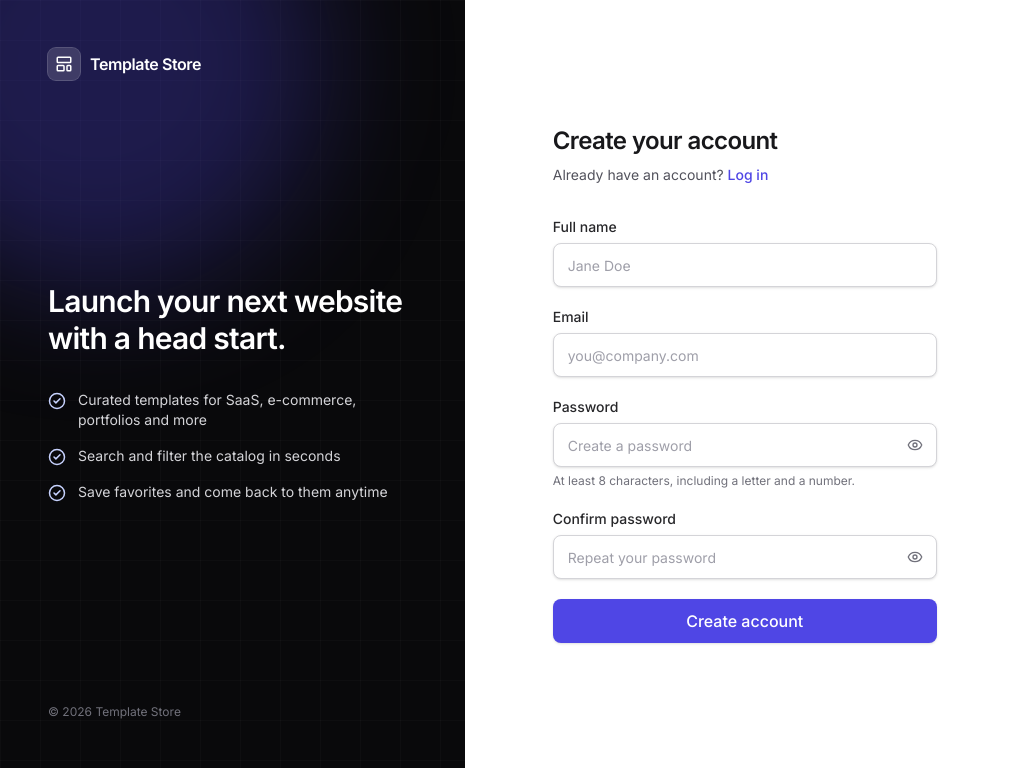
Scenario: Register page › requires matching passwords
The width and height of the screenshot is (1024, 768).
Type "Ada Lovelace" into the field labelled "Full name" at point(745, 265), box top-left (553, 243), bottom-right (937, 287)
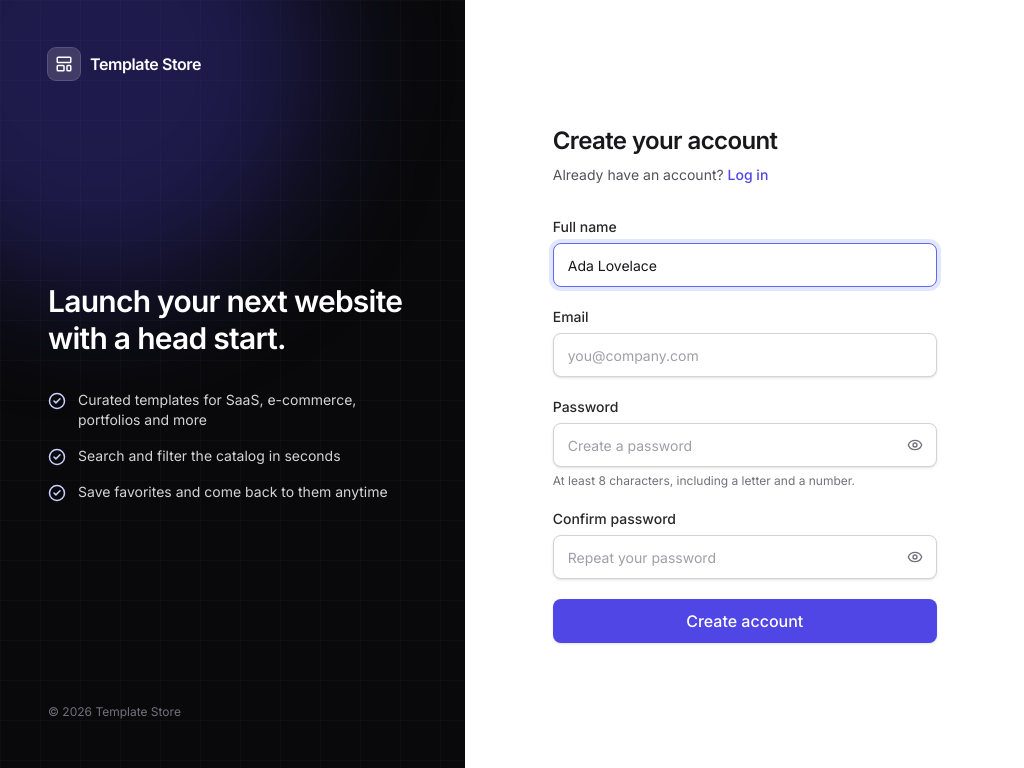
Type "ada@example.com" into the field labelled "Email" at point(745, 355), box top-left (553, 333), bottom-right (937, 377)
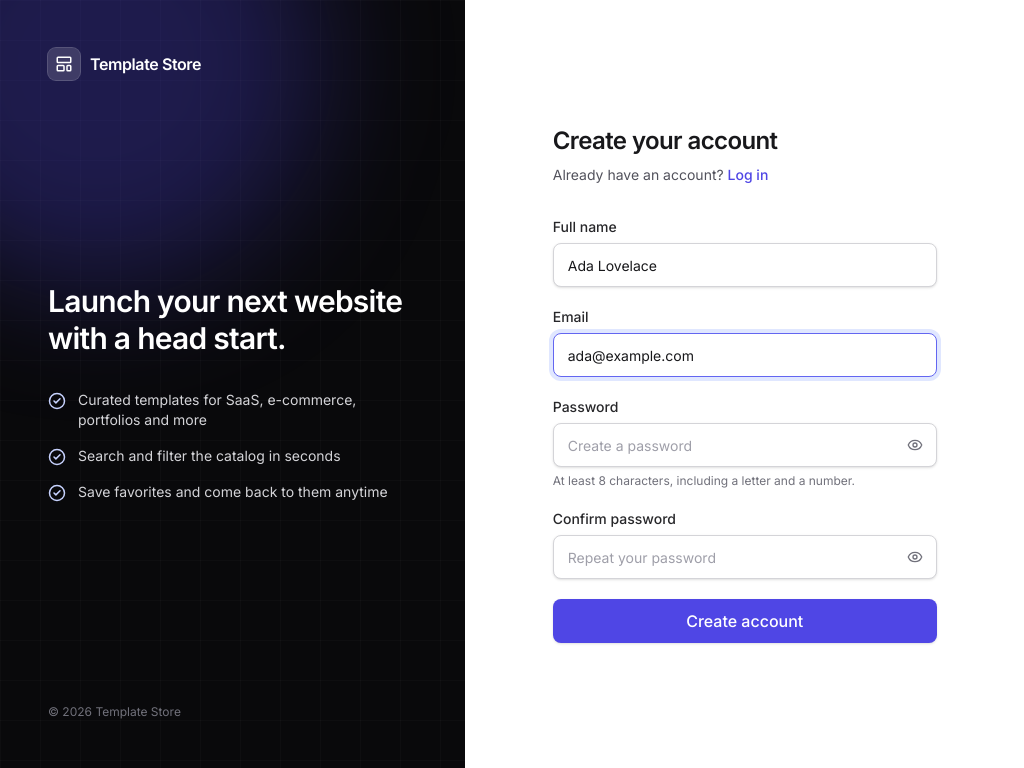
Type "Password1" into the password field labelled "Password" at point(745, 445), box top-left (553, 423), bottom-right (937, 467)
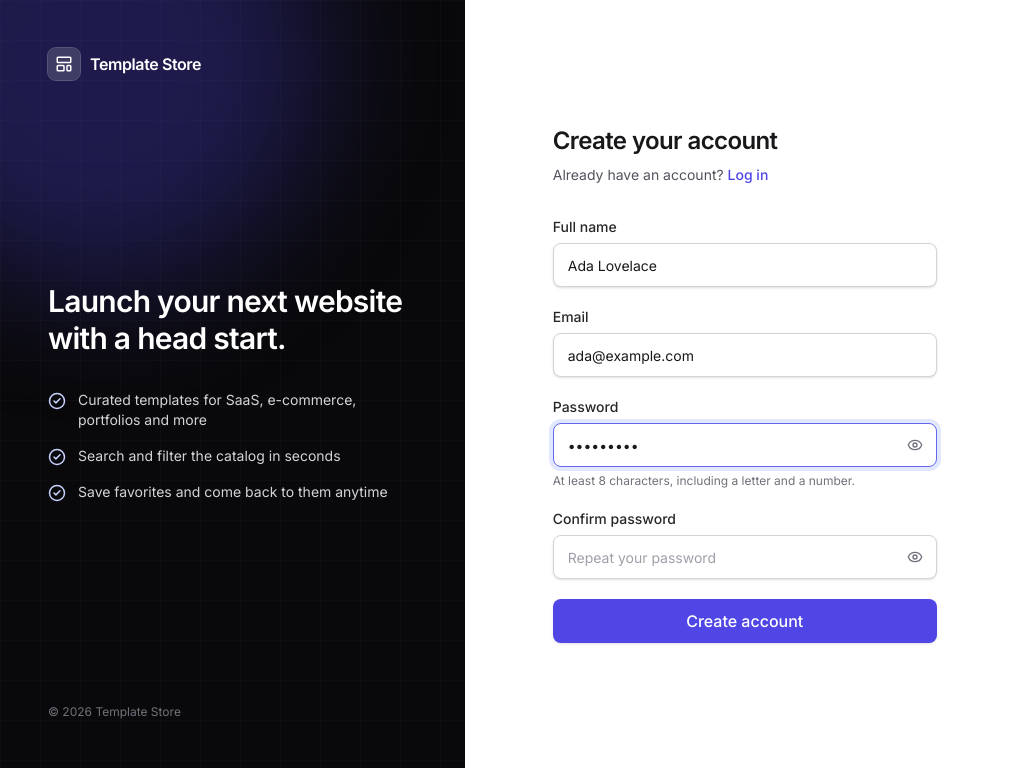
Type "Password2" into the password field labelled "Confirm password" at point(745, 557), box top-left (553, 535), bottom-right (937, 579)
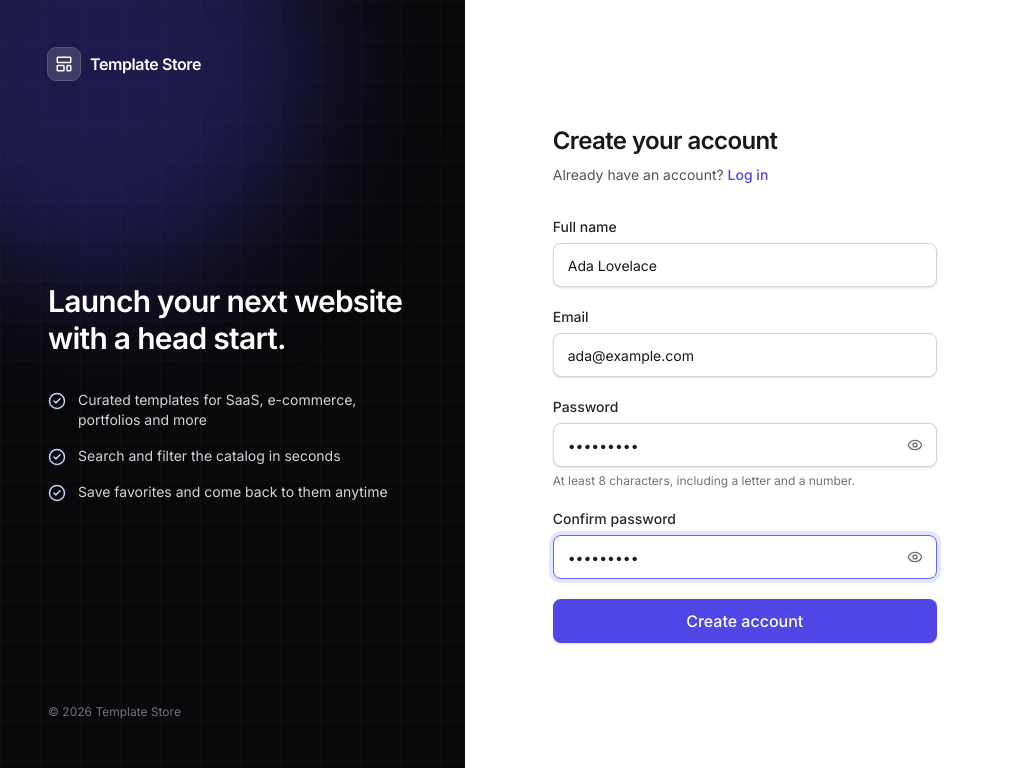
Click the button "Create account" at point(745, 621), box top-left (553, 599), bottom-right (937, 643)
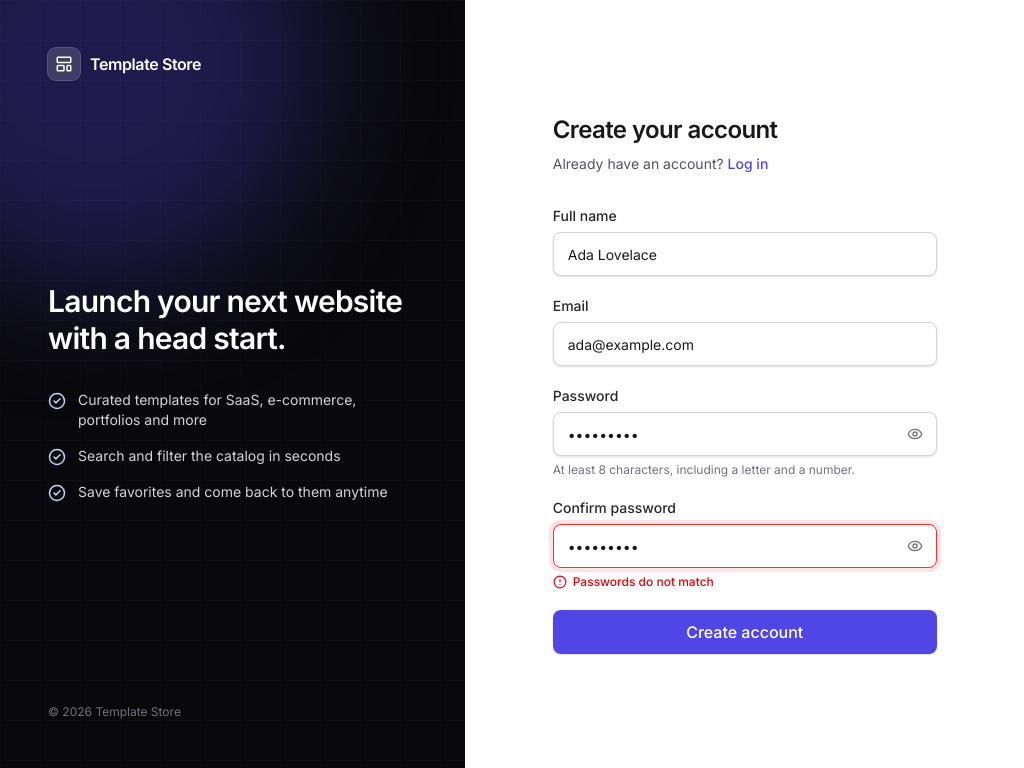
Now the text "Passwords do not match" is shown, box top-left (553, 574), bottom-right (714, 589)
